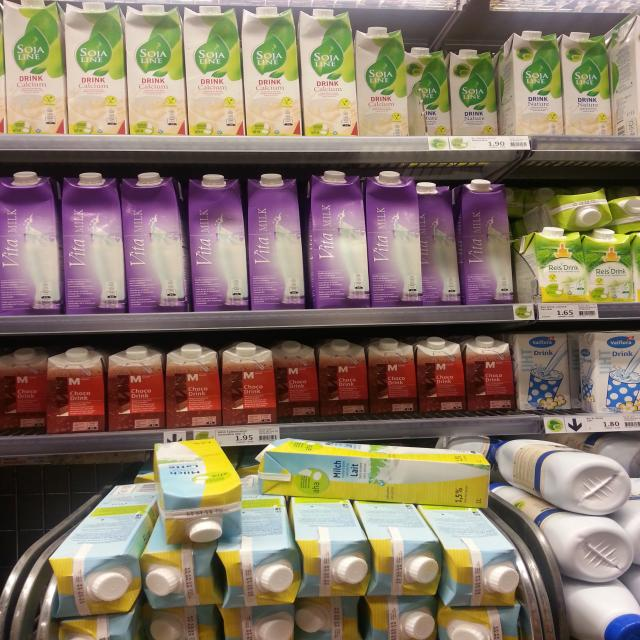Choco: (43, 347, 103, 432), (107, 345, 166, 430), (166, 342, 222, 427), (220, 341, 276, 424), (0, 348, 52, 433), (459, 334, 517, 410), (315, 336, 369, 416), (412, 336, 468, 412), (265, 341, 318, 416), (366, 338, 417, 410)
Milk: (252, 436, 490, 511), (489, 437, 632, 517), (120, 172, 192, 312), (59, 171, 127, 315), (152, 438, 242, 546), (0, 171, 67, 314), (186, 173, 251, 310), (309, 168, 373, 307), (66, 1, 130, 135), (4, 0, 67, 135), (182, 5, 246, 137), (246, 173, 307, 310), (242, 6, 304, 136), (366, 170, 424, 307), (127, 3, 187, 134), (299, 9, 359, 136), (457, 179, 515, 303), (501, 31, 562, 136), (354, 26, 410, 136), (414, 180, 461, 304), (560, 30, 612, 137), (516, 226, 583, 303), (508, 332, 570, 411), (580, 332, 640, 412), (447, 48, 499, 136), (577, 227, 634, 302), (404, 45, 449, 136)
